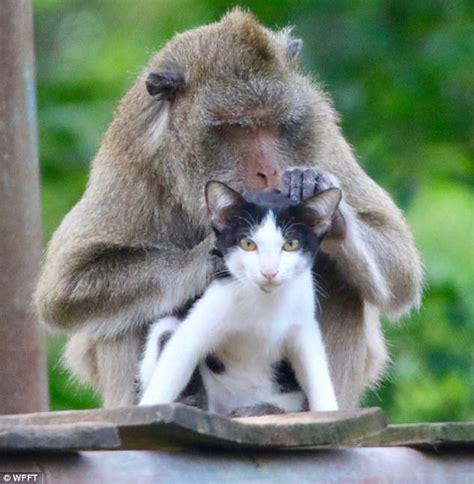cat: (142, 181, 341, 409)
monkey: (38, 11, 419, 409)
